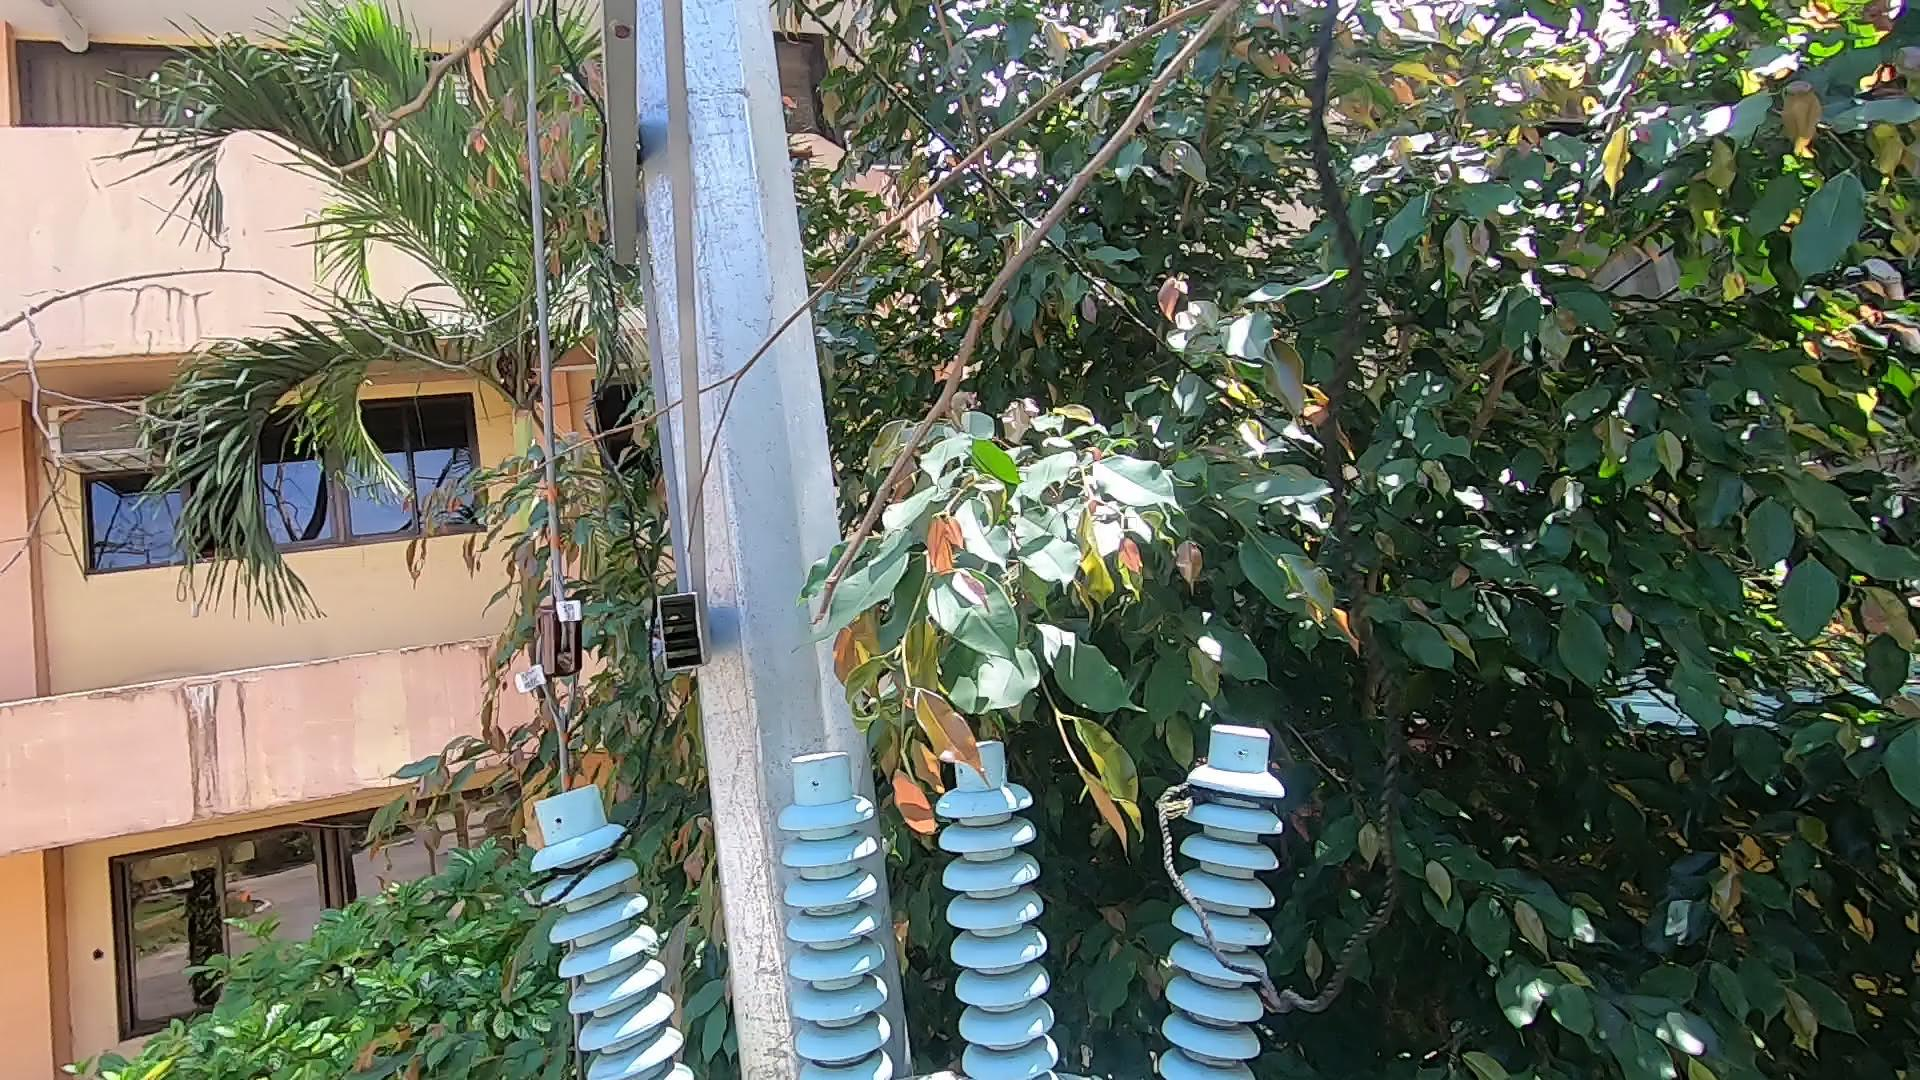branch with leaves: (868, 676, 1011, 847)
tree branch: (378, 131, 1022, 560)
